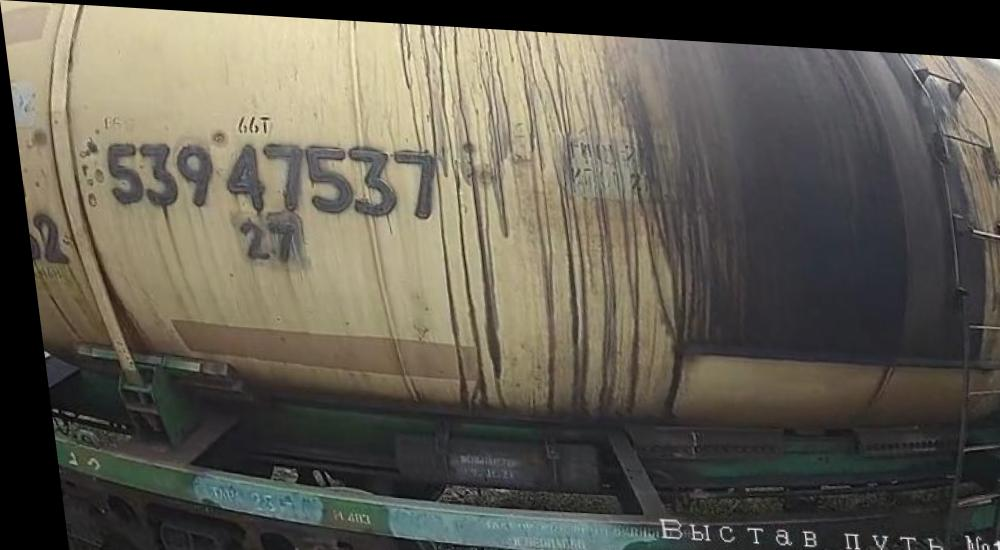Wagon-number: (93, 127, 446, 220)
